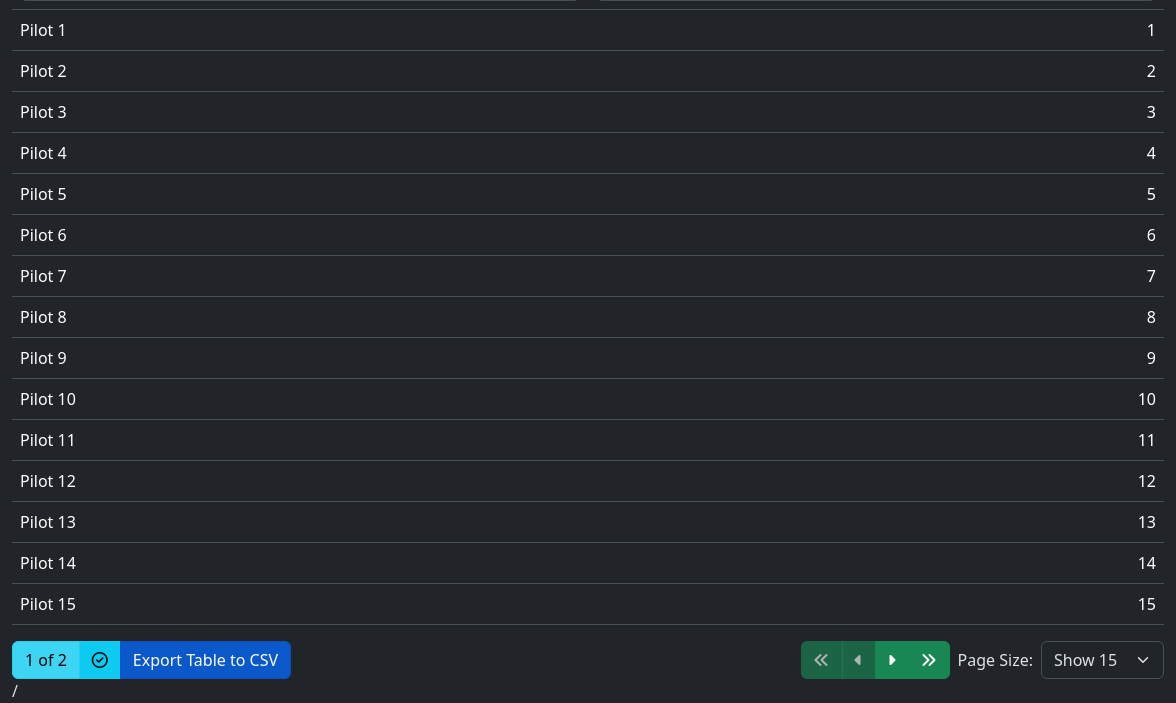
Test: BaseTable › pages the rows 15 at a time
The image size is (1176, 703).
(page scrolled)
Expected: the button "1 of 2" is shown, [12, 641, 80, 679]
Click the 8th button at (892, 660), box [875, 641, 909, 679]
(page scrolled)
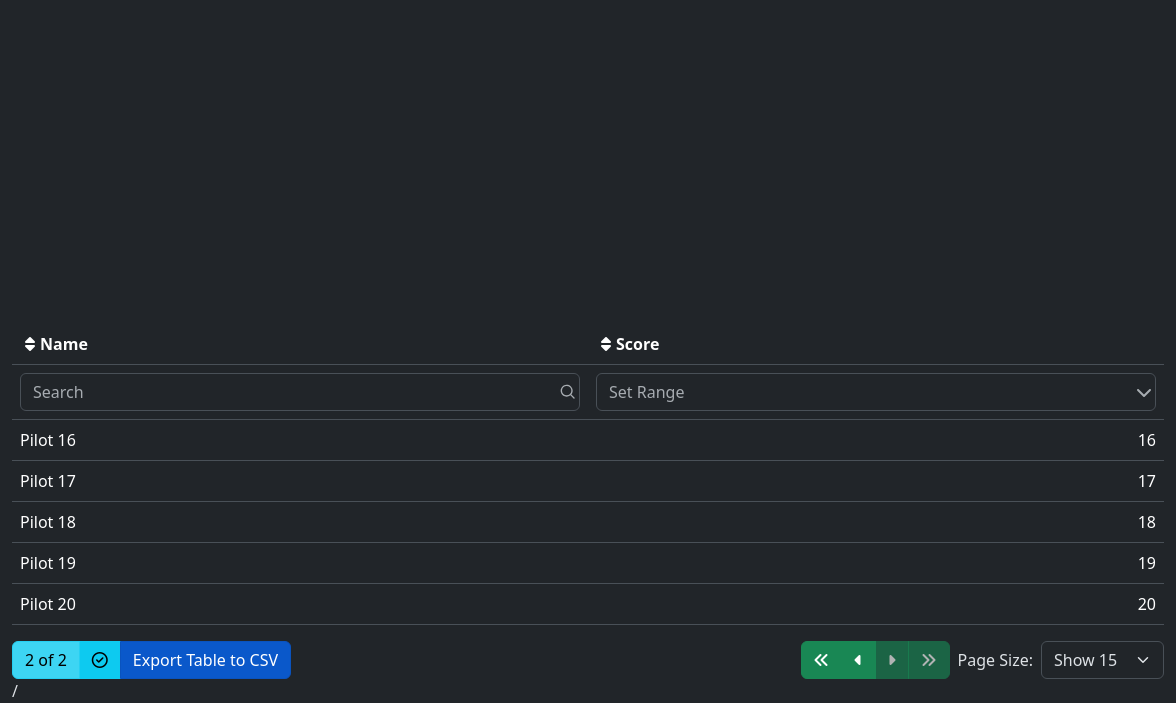
Now the button "2 of 2" is shown, box [12, 641, 80, 679]
Now the text "Pilot 20" is shown, box [12, 584, 588, 624]
